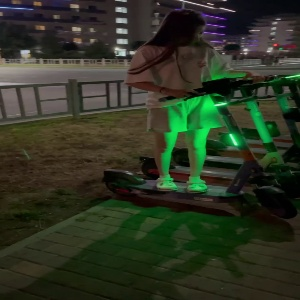human on a scooter: (100, 9, 300, 221)
